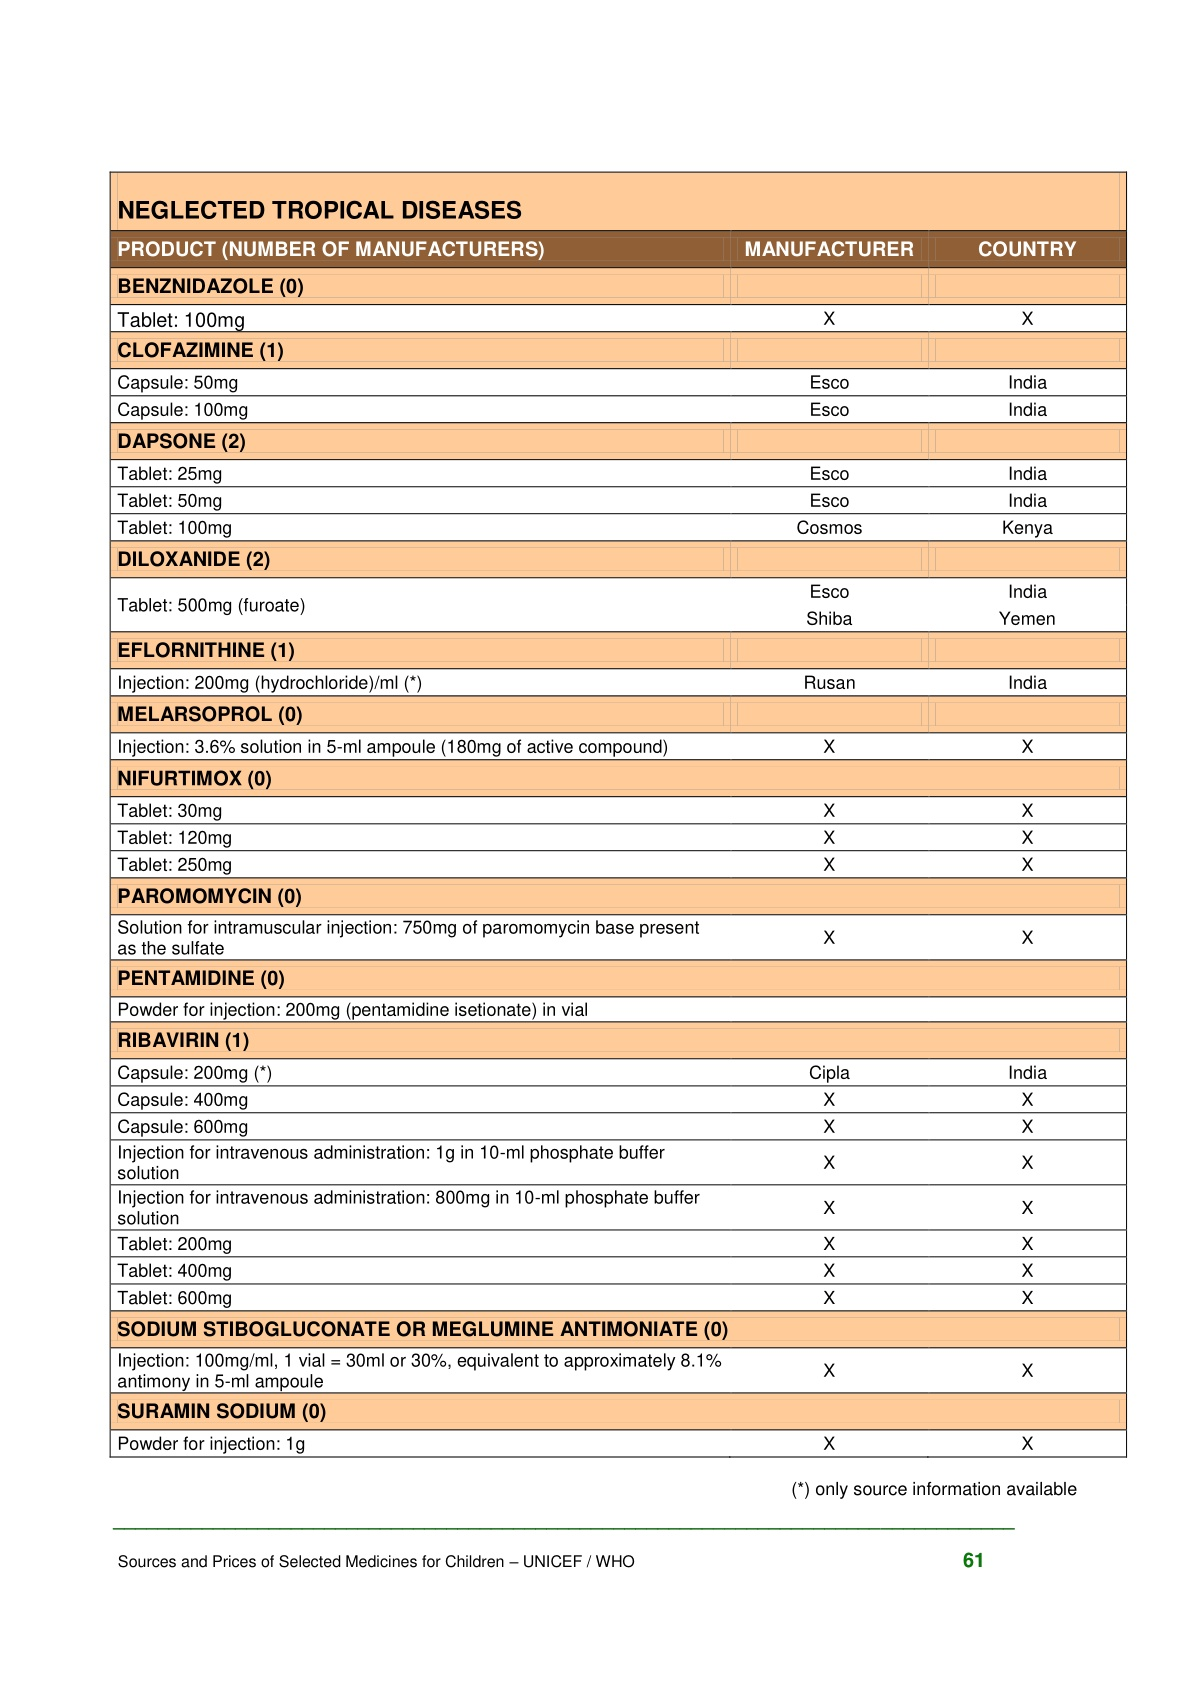partial_lined_merged_cells: (107, 169, 1130, 1459)
